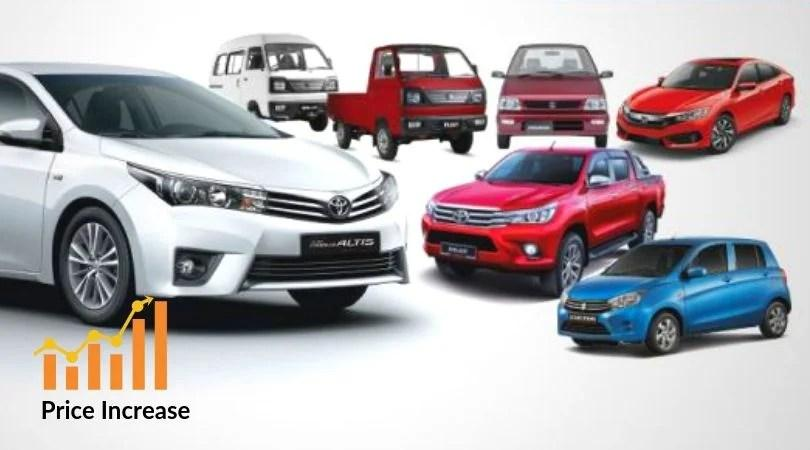windshield: (33, 71, 292, 141), (485, 146, 594, 186), (603, 241, 699, 281)
